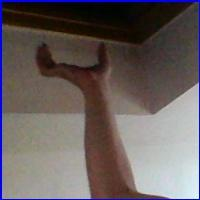space: (27, 38, 119, 97)
